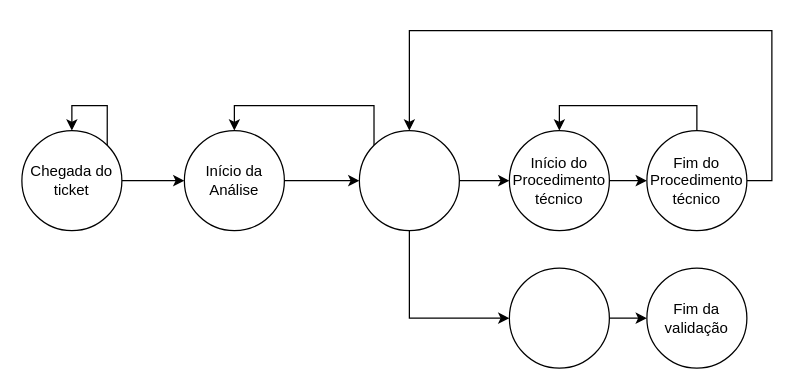
This 804x390 diagram has some shape labels left out. Each missing label, with the centre of its shape:
Fim da Análise: pixel 408 180
Início da validação: pixel 558 317
